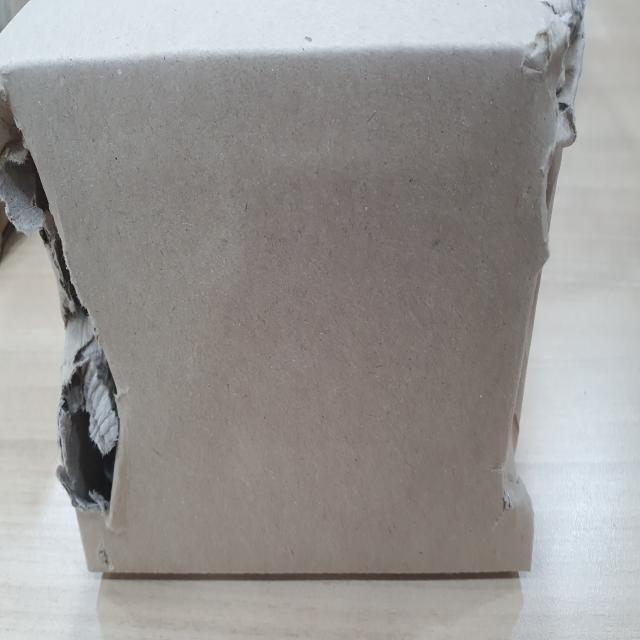hole: (1, 88, 131, 550)
